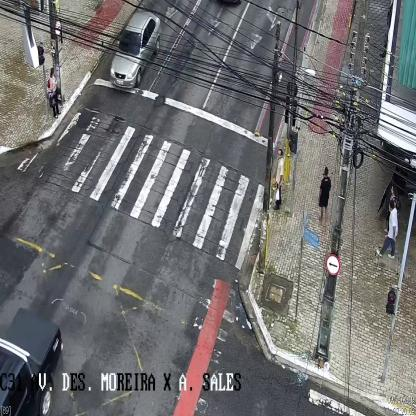car: (109, 10, 161, 88)
person: (375, 200, 398, 260), (384, 184, 398, 240), (318, 166, 331, 224), (46, 68, 60, 117), (272, 148, 282, 211)
